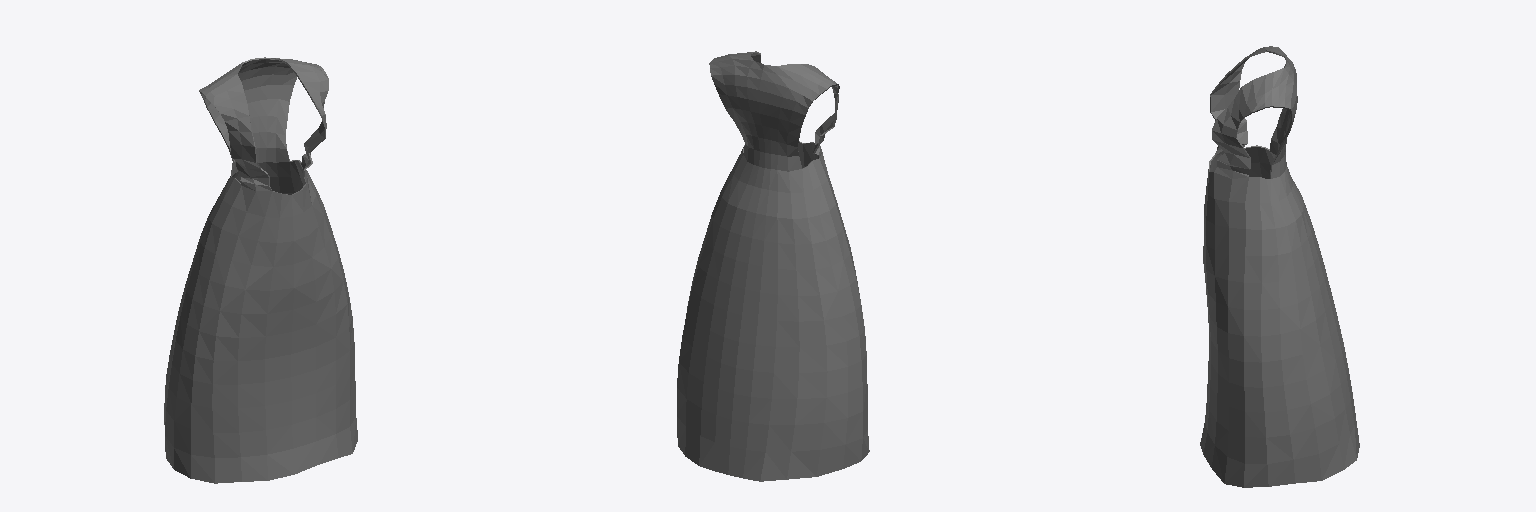
File: LowPoly_Bibliotecaria_Vestido.obj
The picture shows the model from 3 angles: view 1: azimuth 30°, elevation 25°; view 2: azimuth 150°, elevation 25°; view 3: azimuth 270°, elevation 25°; orthographic projection.
Parts seen in each view (by area): view 1: LowPoly_Bibliotecaria_Vestido; view 2: LowPoly_Bibliotecaria_Vestido; view 3: LowPoly_Bibliotecaria_Vestido.
Boxes of the visible parts, x1=… form: LowPoly_Bibliotecaria_Vestido: x1=164, y1=57, x2=357, y2=483; LowPoly_Bibliotecaria_Vestido: x1=677, y1=51, x2=869, y2=481; LowPoly_Bibliotecaria_Vestido: x1=1200, y1=46, x2=1359, y2=487.
Size of the model in its own units: 49.21 by 103 by 38.43.